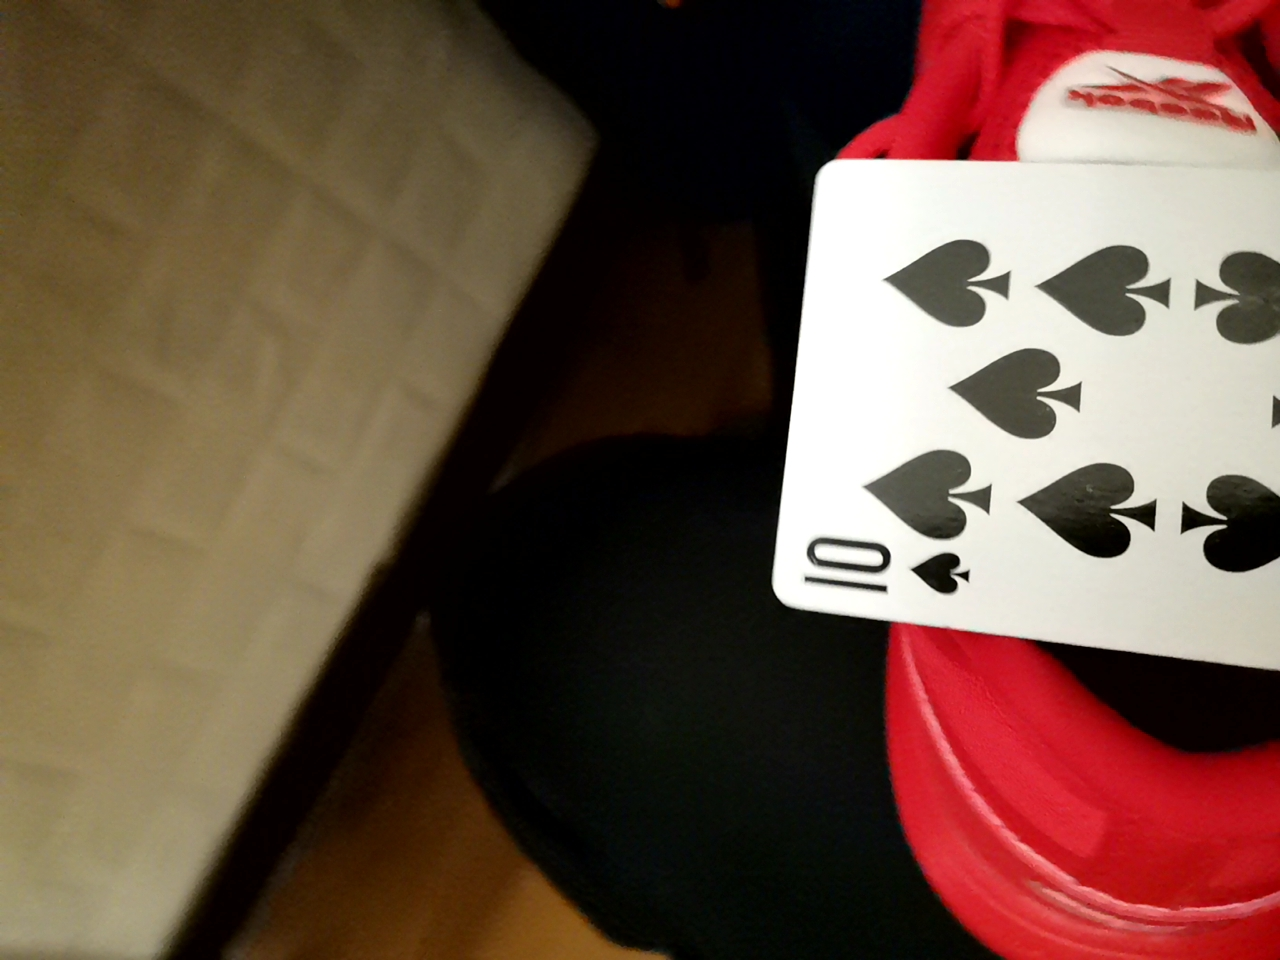ht 10: (772, 153, 1280, 665)
